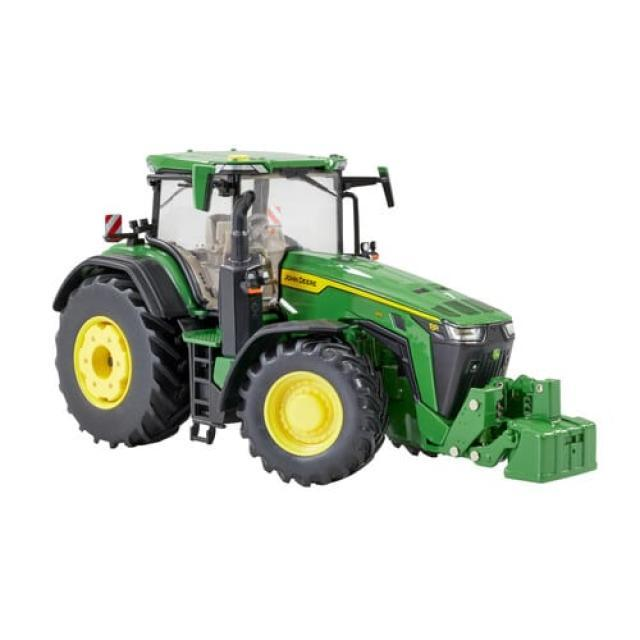Tratores - v5 YOLO V8L 2024-11-13: (45, 141, 606, 495)
